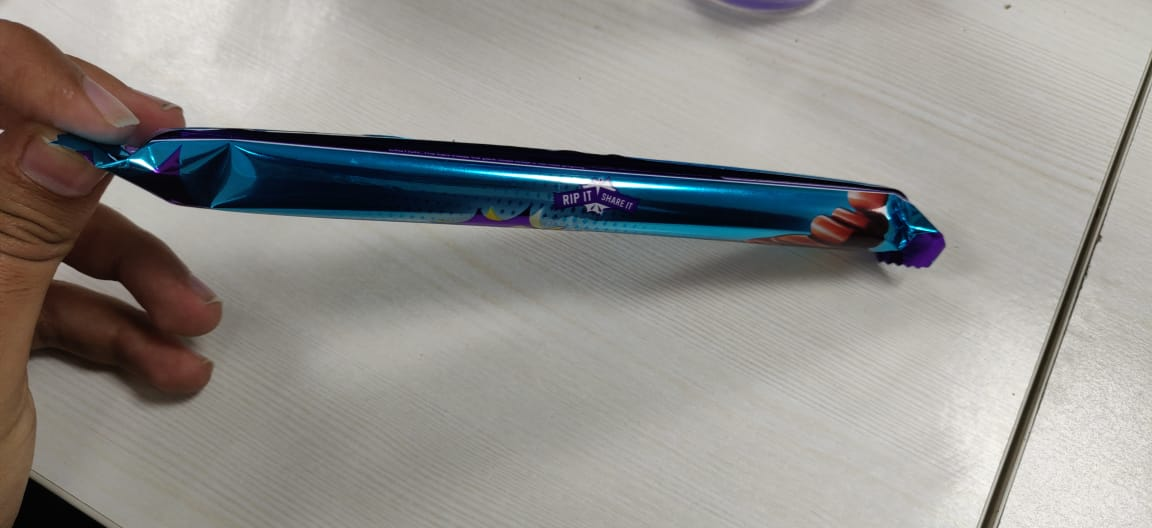perk: (38, 84, 943, 288)
